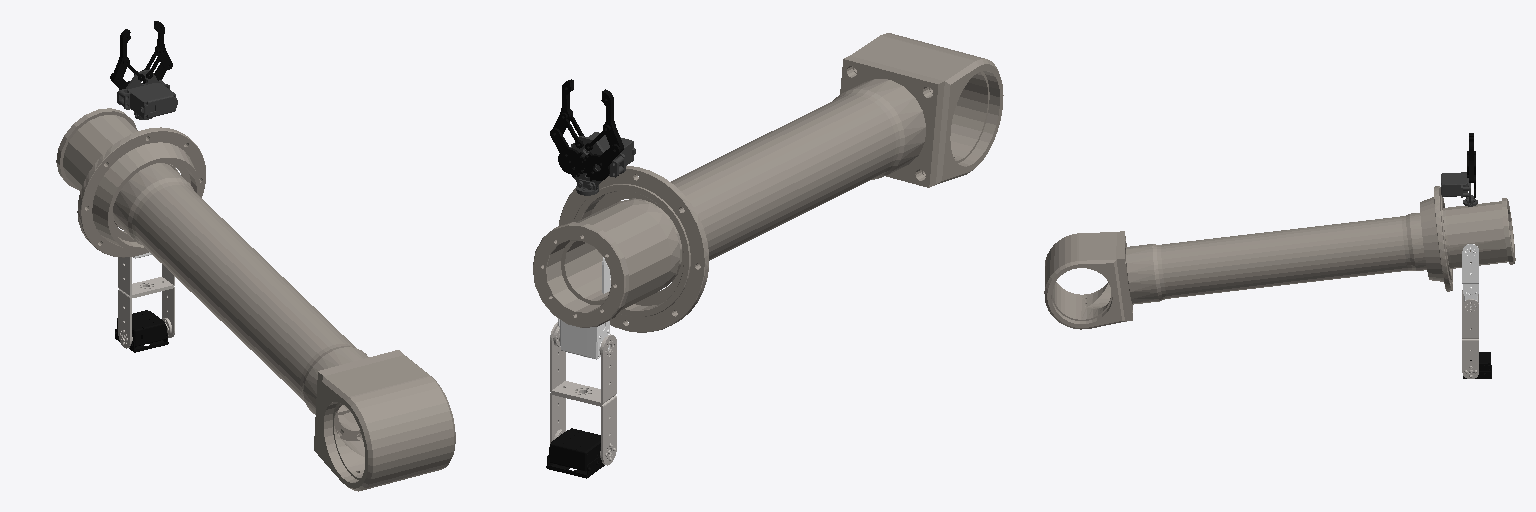
robot.urdf — learm:
<?xml version="1.0" encoding="utf-8"?>
<!-- This URDF was automatically created by SolidWorks to URDF Exporter! Originally created by [author] ([email redacted]) 
     Commit Version: 1.5.1-0-g916b5db  Build Version: 1.5.7152.31018
     For more information, please see http://wiki.ros.org/sw_urdf_exporter -->
<robot
  name="learm">
  <link
    name="base_link">
    <inertial>
      <origin
        xyz="2.46385234278233E-06 0.0254977101978869 0.0305564348386512"
        rpy="0 0 0" />
      <mass
        value="0.176197132421601" />
      <inertia
        ixx="0.000798111880813399"
        ixy="8.18703863042188E-08"
        ixz="-3.94345335858399E-08"
        iyy="0.000317952999154047"
        iyz="0.000127554150577539"
        izz="0.000842638582997675" />
    </inertial>
    <visual>
      <origin
        xyz="0 0 0"
        rpy="0 0 0" />
      <geometry>
        <mesh
          filename="package://learm/meshes/base_link.STL" />
      </geometry>
      <material
        name="">
        <color
          rgba="0.949019607843137 0.756862745098039 0.176470588235294 1" />
      </material>
    </visual>
    <collision>
      <origin
        xyz="0 0 0"
        rpy="0 0 0" />
      <geometry>
        <mesh
          filename="package://learm/meshes/base_link.STL" />
      </geometry>
    </collision>
  </link>
  <link
    name="link0">
    <inertial>
      <origin
        xyz="0.00224451522425875 1.05560671155303E-05 0.0154944104510827"
        rpy="0 0 0" />
      <mass
        value="0.0286579374199143" />
      <inertia
        ixx="5.30819404271102E-06"
        ixy="-5.57403498243757E-08"
        ixz="-8.07425945645655E-08"
        iyy="4.98912764783298E-06"
        iyz="7.1669375998036E-09"
        izz="7.58530025869638E-06" />
    </inertial>
    <visual>
      <origin
        xyz="0 0 0"
        rpy="0 0 0" />
      <geometry>
        <mesh
          filename="package://learm/meshes/link0.STL" />
      </geometry>
      <material
        name="">
        <color
          rgba="0.0980392156862745 0.0980392156862745 0.0980392156862745 1" />
      </material>
    </visual>
    <collision>
      <origin
        xyz="0 0 0"
        rpy="0 0 0" />
      <geometry>
        <mesh
          filename="package://learm/meshes/link0.STL" />
      </geometry>
    </collision>
  </link>
  <joint
    name="joint0"
    type="revolute">
    <origin
      xyz="0 0 0.06975"
      rpy="0 0 0" />
    <parent
      link="base_link" />
    <child
      link="link0" />
    <axis
      xyz="0 0 1" />
    <limit
      lower="-1.5707"
      upper="1.5707"
      effort="0"
      velocity="0" />
  </joint>
  <link
    name="link1">
    <inertial>
      <origin
        xyz="0.0275226686028054 2.76349857442071E-08 0.0506788490450543"
        rpy="0 0 0" />
      <mass
        value="0.0198914095629365" />
      <inertia
        ixx="2.4862063128422E-05"
        ixy="-1.3973420479877E-11"
        ixz="3.27759383965303E-07"
        iyy="3.56469935700131E-05"
        iyz="2.77403946125307E-11"
        izz="1.2698275334445E-05" />
    </inertial>
    <visual>
      <origin
        xyz="0 0 0"
        rpy="0 0 0" />
      <geometry>
        <mesh
          filename="package://learm/meshes/link1.STL" />
      </geometry>
      <material
        name="">
        <color
          rgba="0.776470588235294 0.756862745098039 0.737254901960784 1" />
      </material>
    </visual>
    <collision>
      <origin
        xyz="0 0 0"
        rpy="0 0 0" />
      <geometry>
        <mesh
          filename="package://learm/meshes/link1.STL" />
      </geometry>
    </collision>
  </link>
  <joint
    name="joint1"
    type="revolute">
    <origin
      xyz="-0.02654 -0.01 0.01675"
      rpy="0 0 0" />
    <parent
      link="link0" />
    <child
      link="link1" />
    <axis
      xyz="1 0 0" />
    <limit
      lower="-1.5707"
      upper="1.5707"
      effort="0"
      velocity="0" />
  </joint>
  <link
    name="link2">
    <inertial>
      <origin
        xyz="0.0284558473177446 -1.29064357335118E-05 0.0232660143335079"
        rpy="0 0 0" />
      <mass
        value="0.0372957268851749" />
      <inertia
        ixx="2.59024674914256E-05"
        ixy="1.06704891430267E-08"
        ixz="8.6438772085229E-08"
        iyy="3.32187396891831E-05"
        iyz="3.14040378575013E-08"
        izz="1.02627810402537E-05" />
    </inertial>
    <visual>
      <origin
        xyz="0 0 0"
        rpy="0 0 0" />
      <geometry>
        <mesh
          filename="package://learm/meshes/link2.STL" />
      </geometry>
      <material
        name="">
        <color
          rgba="1 1 1 1" />
      </material>
    </visual>
    <collision>
      <origin
        xyz="0 0 0"
        rpy="0 0 0" />
      <geometry>
        <mesh
          filename="package://learm/meshes/link2.STL" />
      </geometry>
    </collision>
  </link>
  <joint
    name="joint2"
    type="revolute">
    <origin
      xyz="0 0 0.104"
      rpy="0 0 0" />
    <parent
      link="link1" />
    <child
      link="link2" />
    <axis
      xyz="1 0 0" />
    <limit
      lower="-1.5707"
      upper="1.5707"
      effort="0"
      velocity="0" />
  </joint>
  <link
    name="link3">
    <inertial>
      <origin
        xyz="0.0243156083533052 -0.0122137148801495 0.0184633293651139"
        rpy="0 0 0" />
      <mass
        value="0.0472722783317493" />
      <inertia
        ixx="2.80012896238471E-05"
        ixy="-1.52529513704683E-07"
        ixz="3.37277771249749E-07"
        iyy="2.31249789189803E-05"
        iyz="-2.5459200196579E-07"
        izz="1.41850933655321E-05" />
    </inertial>
    <visual>
      <origin
        xyz="0 0 0"
        rpy="0 0 0" />
      <geometry>
        <mesh
          filename="package://learm/meshes/link3.STL" />
      </geometry>
      <material
        name="">
        <color
          rgba="0.647058823529412 0.619607843137255 0.588235294117647 1" />
      </material>
    </visual>
    <collision>
      <origin
        xyz="0 0 0"
        rpy="0 0 0" />
      <geometry>
        <mesh
          filename="package://learm/meshes/link3.STL" />
      </geometry>
    </collision>
  </link>
  <joint
    name="joint3"
    type="revolute">
    <origin
      xyz="-0.0022101 0 0.08852"
      rpy="0 0 0" />
    <parent
      link="link2" />
    <child
      link="link3" />
    <axis
      xyz="1 0 0" />
    <limit
      lower="-1.5707"
      upper="1.5707"
      effort="0"
      velocity="0" />
  </joint>
  <link
    name="link4">
    <inertial>
      <origin
        xyz="-0.00298984315298845 -0.0136007289794491 0.0276531727170283"
        rpy="0 0 0" />
      <mass
        value="0.0184895230633081" />
      <inertia
        ixx="6.15016737206511E-06"
        ixy="-3.09749389160039E-07"
        ixz="1.77330393858005E-07"
        iyy="5.93857964470286E-06"
        iyz="7.20913343527975E-07"
        izz="7.36450564297619E-06" />
    </inertial>
    <visual>
      <origin
        xyz="0 0 0"
        rpy="0 0 0" />
      <geometry>
        <mesh
          filename="package://learm/meshes/link4.STL" />
      </geometry>
      <material
        name="">
        <color
          rgba="0.298039215686275 0.298039215686275 0.298039215686275 1" />
      </material>
    </visual>
    <collision>
      <origin
        xyz="0 0 0"
        rpy="0 0 0" />
      <geometry>
        <mesh
          filename="package://learm/meshes/link4.STL" />
      </geometry>
    </collision>
  </link>
  <joint
    name="joint4"
    type="revolute">
    <origin
      xyz="0.025281 -0.0007415 0.061651"
      rpy="0 0 0" />
    <parent
      link="link3" />
    <child
      link="link4" />
    <axis
      xyz="0 0 -1" />
    <limit
      lower="-1.5707"
      upper="1.5707"
      effort="0"
      velocity="0" />
  </joint>
  <link
    name="eef_link">
    <inertial>
      <origin
        xyz="0.0172496273570638 0.000188502452931755 -0.0479247481992731"
        rpy="0 0 0" />
      <mass
        value="0.011340100943172" />
      <inertia
        ixx="6.07171134981986E-06"
        ixy="-1.42687337630665E-08"
        ixz="4.87118879571211E-09"
        iyy="1.15030568612159E-05"
        iyz="4.37665366468011E-07"
        izz="5.64384752640416E-06" />
    </inertial>
    <visual>
      <origin
        xyz="0 0 0"
        rpy="0 0 0" />
      <geometry>
        <mesh
          filename="package://learm/meshes/eef_link.STL" />
      </geometry>
      <material
        name="">
        <color
          rgba="0.0980392156862745 0.0980392156862745 0.0980392156862745 1" />
      </material>
    </visual>
    <collision>
      <origin
        xyz="0 0 0"
        rpy="0 0 0" />
      <geometry>
        <mesh
          filename="package://learm/meshes/eef_link.STL" />
      </geometry>
    </collision>
  </link>
  <joint
    name="eef_joint"
    type="fixed">
    <origin
      xyz="-0.017814 0.003 0.1064"
      rpy="0 0 0" />
    <parent
      link="link4" />
    <child
      link="eef_link" />
    <axis
      xyz="0 0 0" />
  </joint>
  <link name="tool0"/>
  <joint name="tool_joint" type="fixed">
    <orignin xyz="0 0 0" rpy="0 0 0"/>
    <parent link="link4"/>
    <child link="tool0"/>
  </joint>
</robot>

--- What the picture shows (computed from the rendered views, not written in the file) ---
Views: 3 orthographic renders of the robot side by side, from view 1: azimuth 30°, elevation 25°; view 2: azimuth 150°, elevation 25°; view 3: azimuth 270°, elevation 25°.
Model learm with 8 links and 7 joints (5 revolute, 2 fixed), rooted at base_link, posed every joint at zero.
Visible links, largest first — view 1: link3, link1, link4, eef_link, link0; view 2: link3, link1, eef_link, link0, link2, link4; view 3: link3, link1, link2, link4.
Boxes of the visible links, x1,y1,x2,y2 form: link3: (56,108,455,491); link1: (118,257,174,348); link4: (117,69,177,119); eef_link: (110,21,172,89); link0: (115,310,168,352); link3: (533,33,1003,332); link1: (550,322,616,465); eef_link: (550,79,623,180); link0: (546,428,604,478); link2: (558,257,610,359); link4: (570,132,635,195); link3: (1044,186,1515,329); link1: (1462,290,1478,378); link2: (1462,244,1478,306); link4: (1441,172,1477,206).
Size in the robot's own frame: 0.155 by 0.688 by 0.379 metres.
6 mesh visuals loaded from 7 distinct referenced files (6 binary STL); not drawn: 1 (reference not matched to a file when rendering).